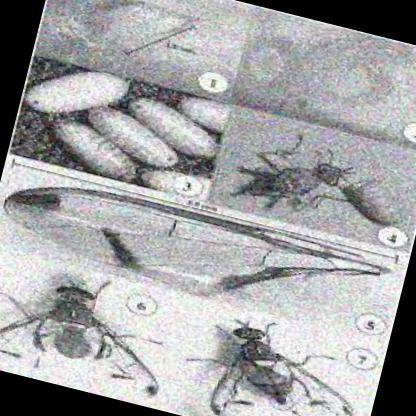fruit fly: (0, 284, 162, 401), (212, 321, 352, 416)
